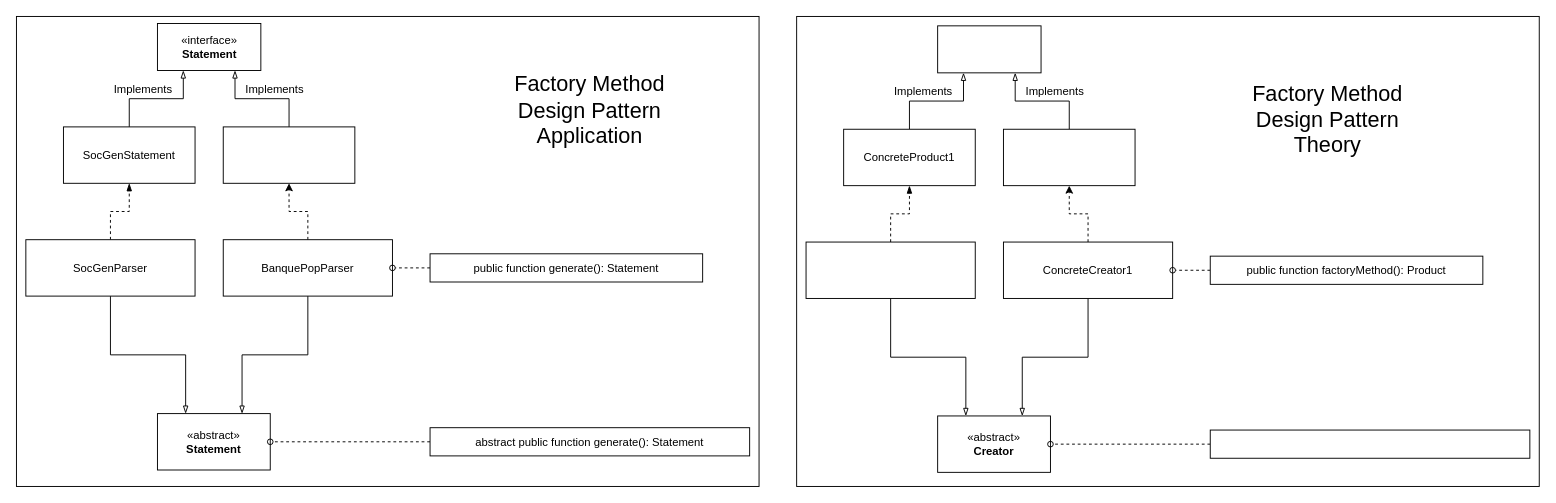
Some shapes in this 1556 by 503 pixel diagram are drawn without their labels. Here are the shapes that lost their labels. From the top down, the centre of each, then its label:
[989,49]: «interface» Product
[288,154]: BanquePopStatement
[1069,157]: ConcreteProduct2
[890,269]: ConcreteCreator2
[1369,443]: abstract public function factoryMethod(): Product
